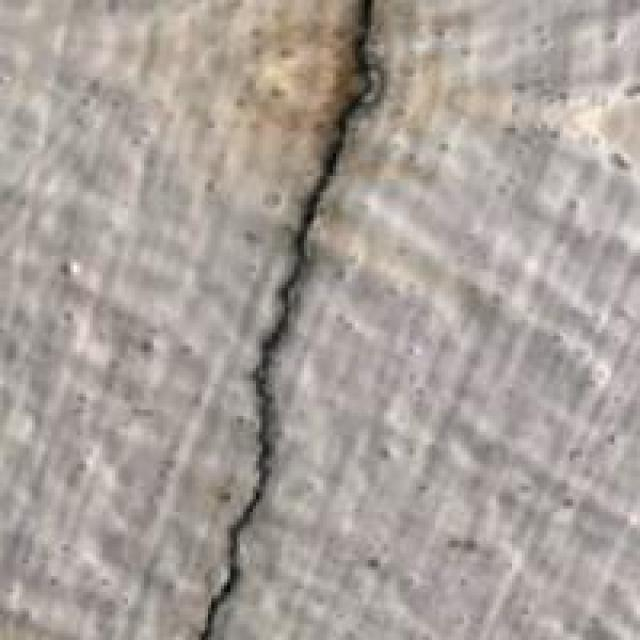crack: (163, 0, 413, 637)
